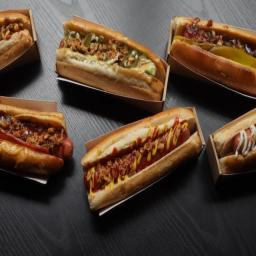hotdog: (81, 96, 204, 224), (52, 13, 172, 110), (169, 6, 256, 104), (0, 94, 73, 188), (212, 104, 256, 180)
